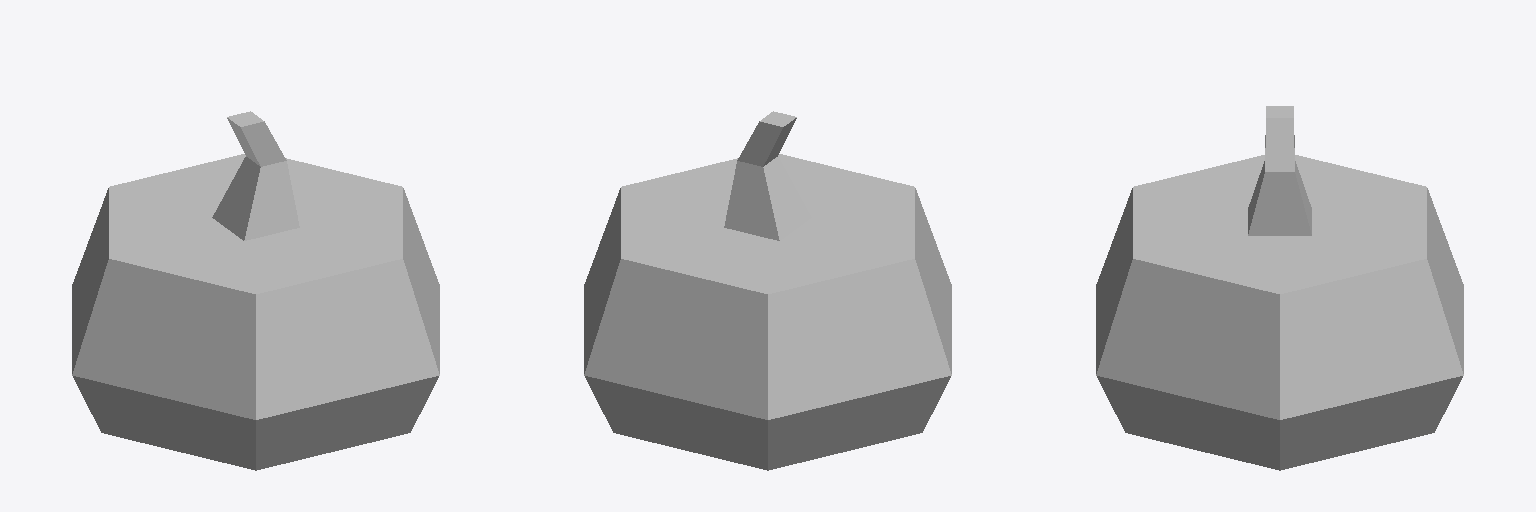
3 renders of one model, left to right at view 1: azimuth 30°, elevation 25°; view 2: azimuth 150°, elevation 25°; view 3: azimuth 270°, elevation 25°, orthographic.
Parts seen in each view (by area): view 1: pumpkin; view 2: pumpkin; view 3: pumpkin.
Part boxes in pixels (bbox=[...]): pumpkin: bbox=[72, 111, 439, 470]; pumpkin: bbox=[584, 111, 951, 470]; pumpkin: bbox=[1096, 106, 1463, 470].
Size of the model in its own units: 1 by 0.7235 by 0.866.